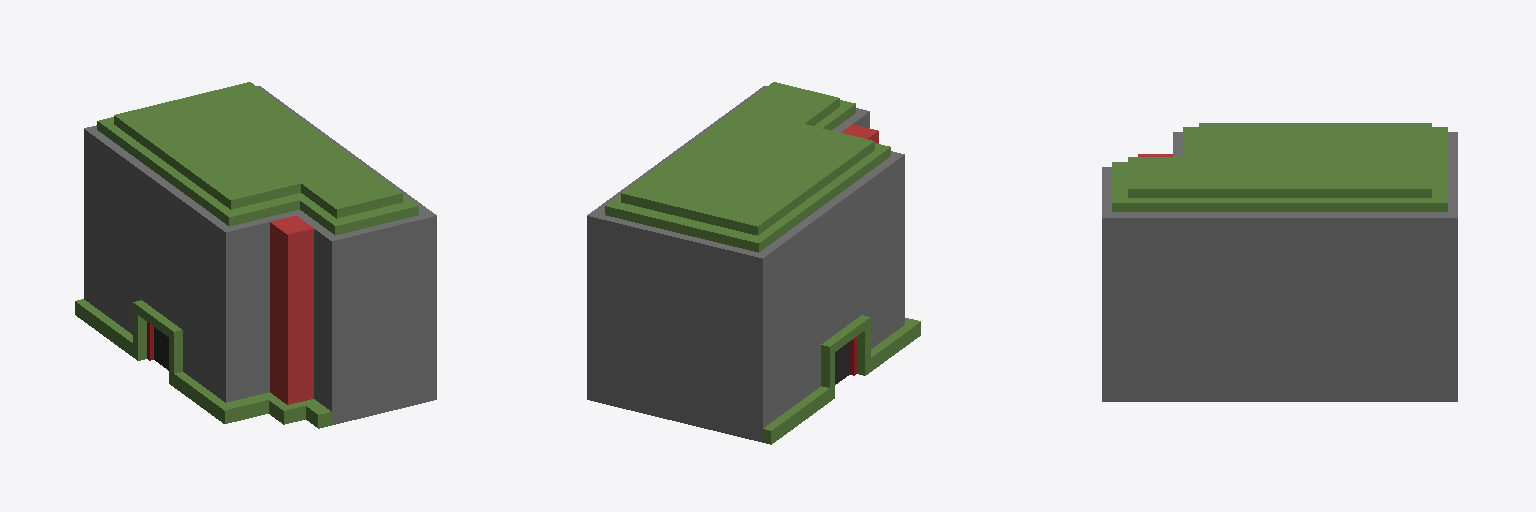
3 views of the same model, side by side, from view 1: azimuth 30°, elevation 25°; view 2: azimuth 150°, elevation 25°; view 3: azimuth 270°, elevation 25° (orthographic).
Visible parts, largest first — view 1: object 1; view 2: object 1; view 3: object 1.
Part boxes in pixels (x1,y1,x2,y2): object 1: (75, 82, 436, 428); object 1: (587, 82, 920, 444); object 1: (1102, 123, 1457, 401).
Size of the model in its own units: 4.2 by 4.4 by 7.
Materials: 1 (1 with a texture image).